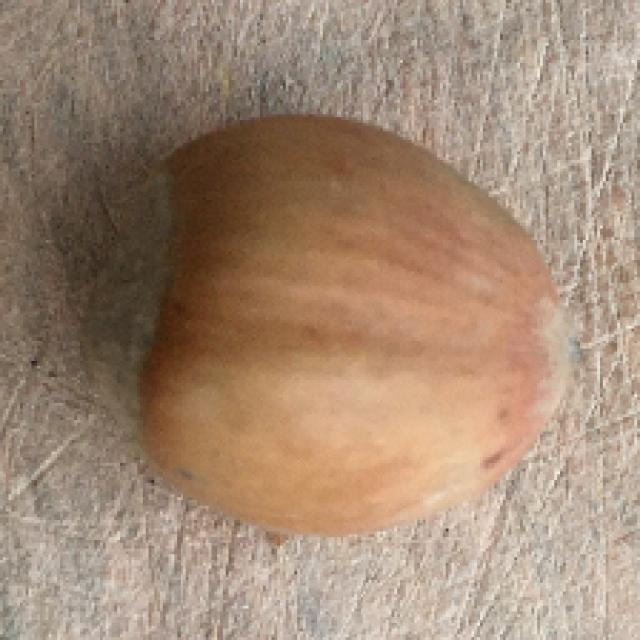qualityHazelnut: (88, 117, 579, 543)
